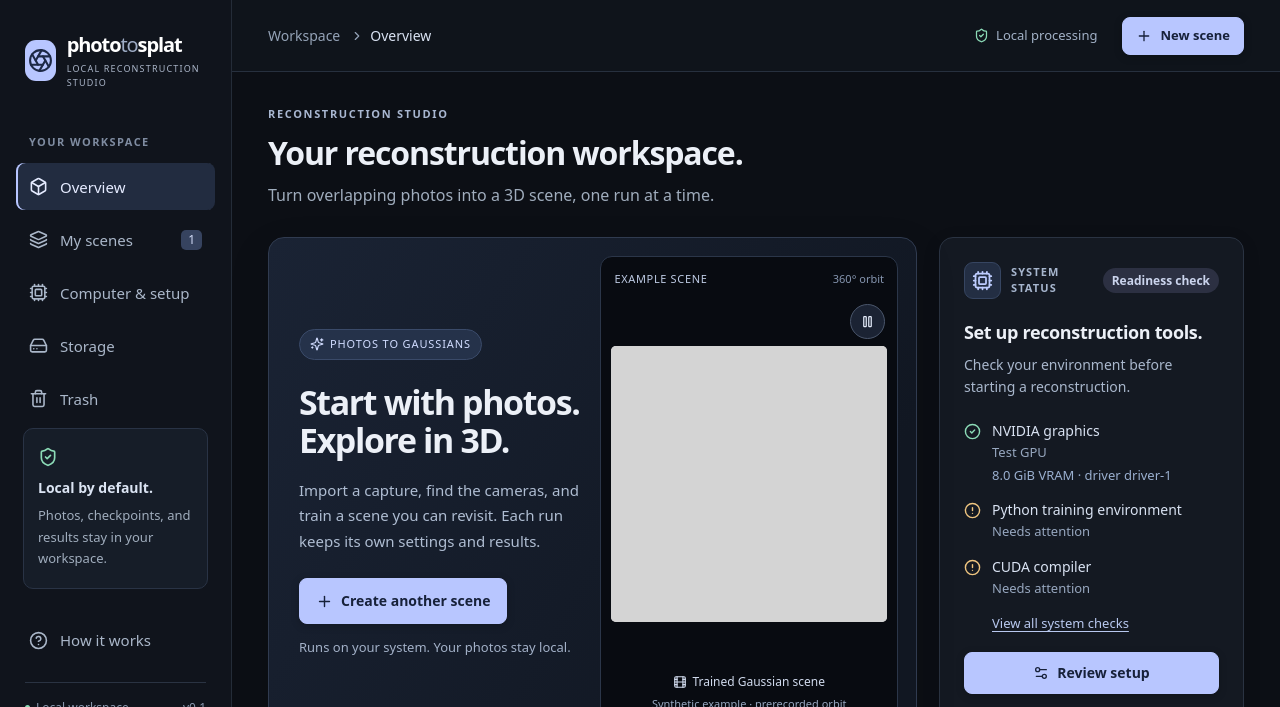
it: keeps missing tools visible in the compact system summary and links to all checks
The image size is (1280, 707).
Expected: the text "Python training environment" is shown, [992, 500, 1182, 519]
Expected: the text "CUDA compiler" is shown, [992, 557, 1091, 576]
Click the link "View all system checks" at (1060, 623), box [992, 614, 1129, 632]
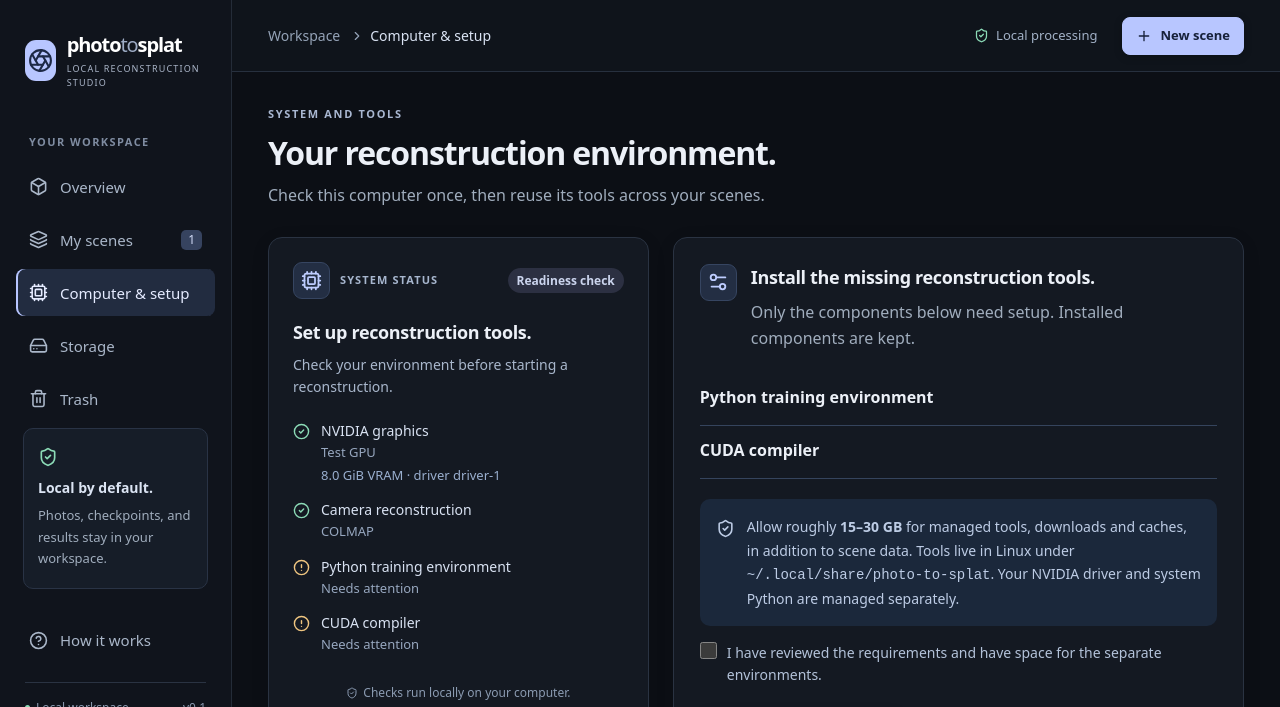
Now the text "Camera reconstruction" is shown, box [321, 500, 472, 519]
